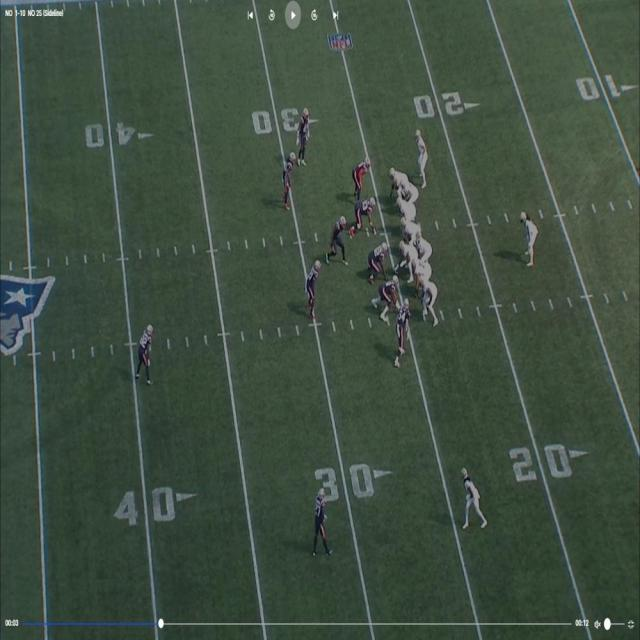center: (398, 240, 416, 275)
db: (316, 486, 334, 553), (137, 324, 155, 384), (282, 150, 298, 207), (298, 105, 314, 161)
lb: (305, 256, 323, 316), (396, 298, 412, 364), (521, 211, 537, 266), (331, 209, 347, 262), (354, 154, 369, 193)
qb: (417, 231, 432, 260)
skill: (462, 468, 486, 532), (417, 128, 430, 182), (399, 178, 420, 202), (389, 163, 399, 190)
